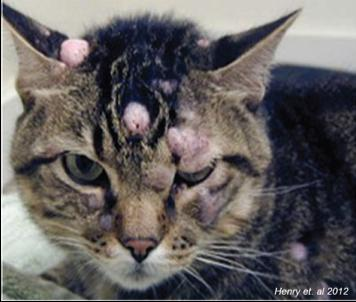lump_and_bump: (165, 127, 213, 161), (58, 37, 93, 66), (126, 103, 149, 130), (292, 241, 308, 263), (101, 214, 113, 230), (199, 39, 212, 49)
